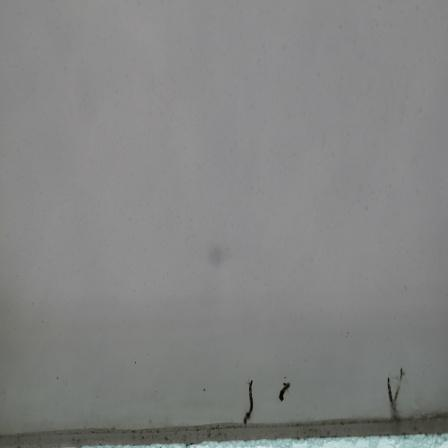Jentik-Nyamuk: (241, 374, 256, 428), (383, 375, 400, 419), (275, 378, 292, 406)
